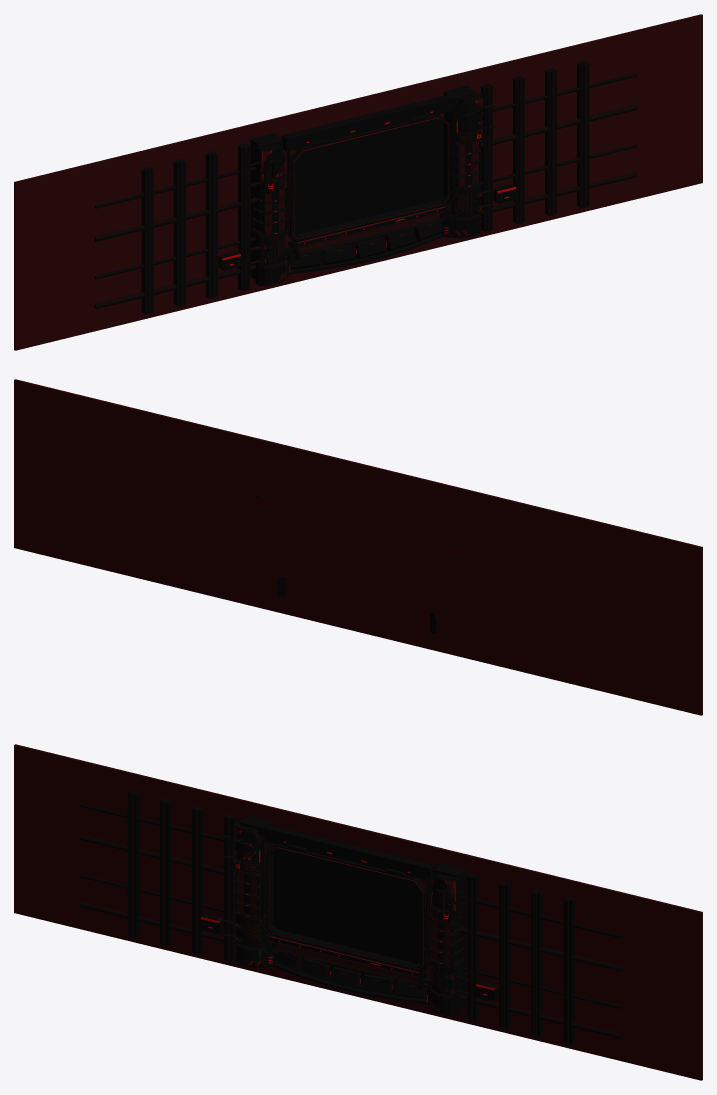
Rendered from menu_frame.glb.
3 renders of one model, top to bottom at view 1: azimuth 30°, elevation 25°; view 2: azimuth 150°, elevation 25°; view 3: azimuth 330°, elevation 25°, orthographic.
Visible parts, largest first — view 1: back_wall, screen_glass, header, beam_1_3, beam_-1_3, beam_-1_2, beam_-1_1, bezel_outer, beam_1_1, beam_-1_0, bezel_slope, beam_1_2 (+22 smaller); view 2: back_wall; view 3: back_wall, screen_glass, header, beam_-1_3, beam_1_3, beam_1_2, beam_1_1, bezel_outer, beam_-1_1, beam_1_0, bezel_slope, beam_-1_2 (+22 smaller).
Boxes of the visible parts, x1,y1,x2,y2 form: back_wall: (14,14,702,350); screen_glass: (294,118,443,234); header: (281,94,453,151); beam_1_3: (577,60,589,208); beam_-1_3: (141,167,153,314); beam_-1_2: (173,159,185,306); beam_-1_1: (205,151,217,298); bezel_outer: (288,114,450,241); beam_1_1: (513,76,524,223); beam_-1_0: (238,143,249,290); bezel_slope: (293,117,447,238); beam_1_2: (545,68,556,215); back_wall: (14,379,702,715); back_wall: (14,744,702,1080); screen_glass: (273,848,422,964); header: (263,824,435,881); beam_-1_3: (127,790,139,938); beam_1_3: (563,897,575,1044); beam_1_2: (531,889,543,1036); beam_1_1: (499,881,511,1028); bezel_outer: (266,844,428,971); beam_-1_1: (192,806,203,953); beam_1_0: (467,873,478,1020); bezel_slope: (269,847,423,968); beam_-1_2: (160,798,171,945).
Size of the model in its own units: 60 by 14 by 3.16.
